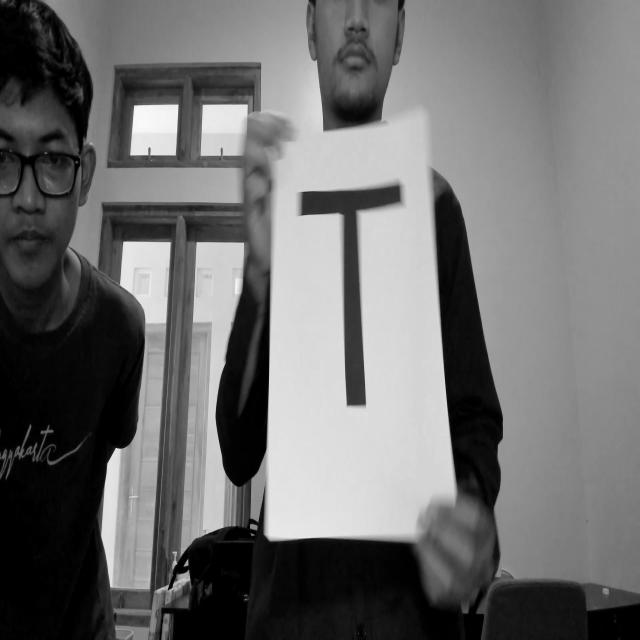t: (296, 172, 414, 441)
